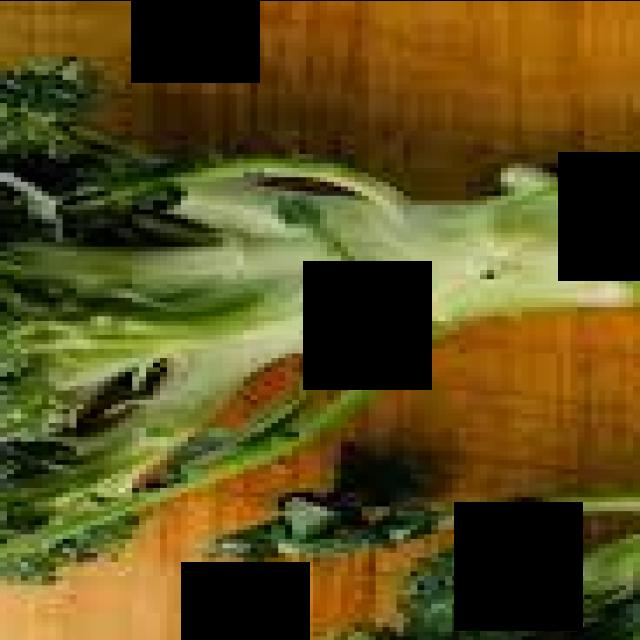broccoli: (0, 53, 640, 588)
